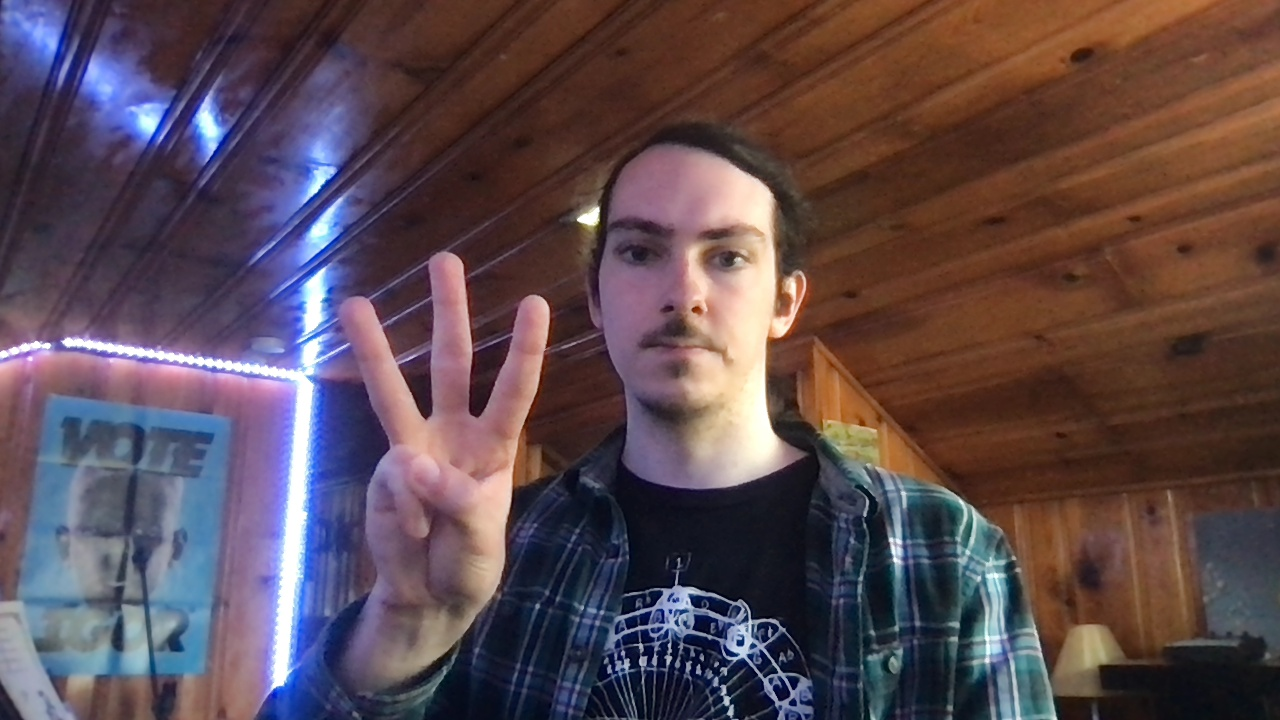w: (337, 248, 553, 615)
